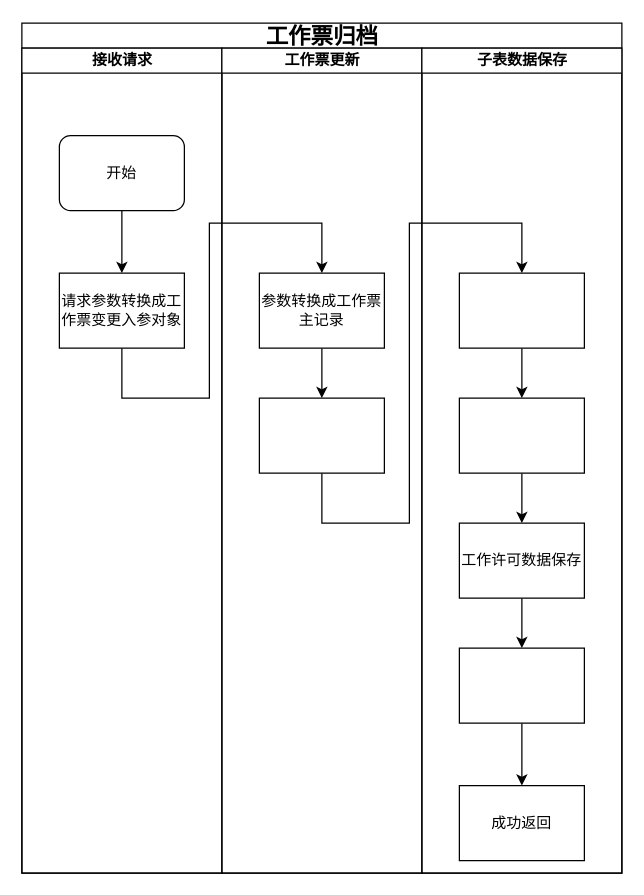
This 644x895 diagram has some shape labels left out. Here are the shapes that lost their labels. From the top down, the centre of each, then its label:
At point (521, 310): "安全措施记录保存".
At point (321, 435): "更新工作票主记录".
At point (521, 435): "工作终结数据保存".
At point (521, 685): "配电安全措施数据保存".
